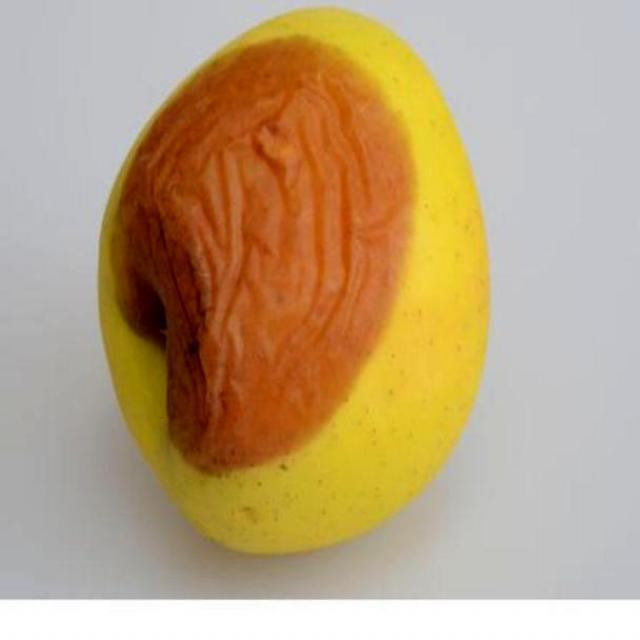ROT: (78, 10, 510, 539)
